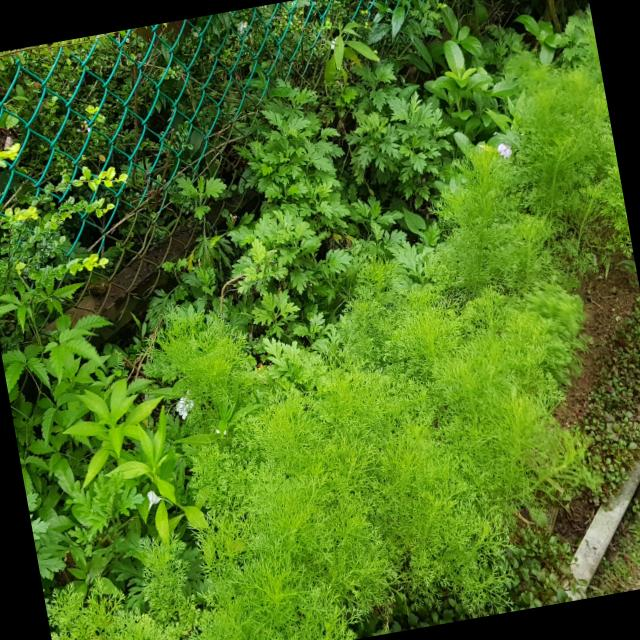Dill: (393, 245, 615, 543), (204, 368, 430, 628), (434, 96, 639, 316)
